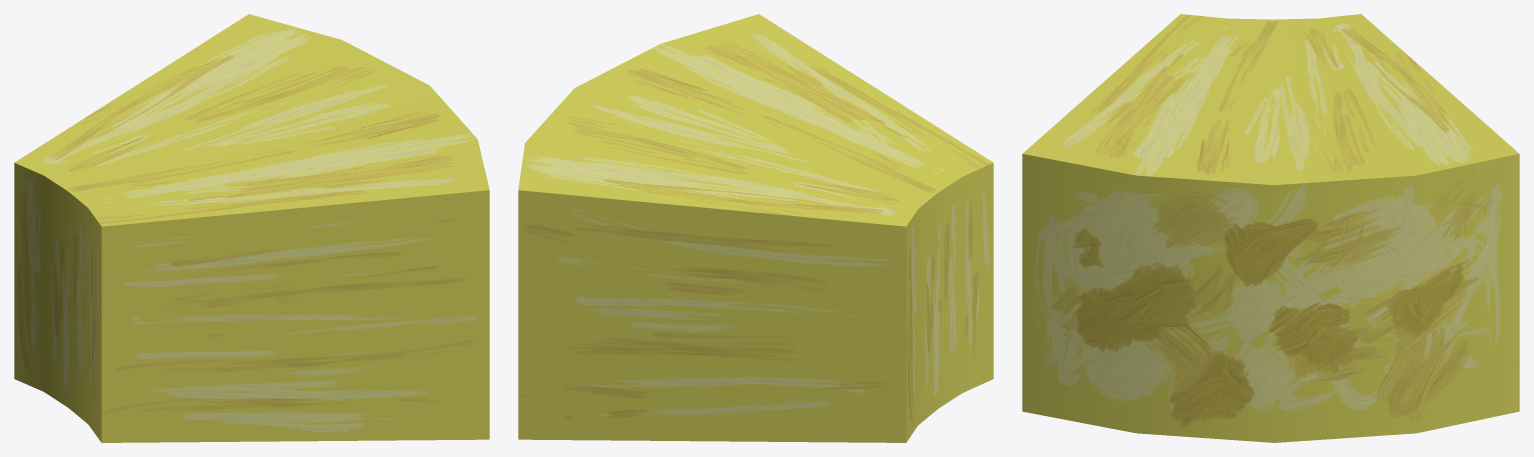
The model's file is Pineapple.gltf.
3 views of the same model, side by side, from view 1: azimuth 30°, elevation 25°; view 2: azimuth 150°, elevation 25°; view 3: azimuth 270°, elevation 25° (orthographic). The views are drawn at different scales.
Visible parts, largest first — view 1: pineapple; view 2: pineapple; view 3: pineapple.
Part boxes in pixels (x1=…): pineapple: x1=14, y1=14, x2=489, y2=442; pineapple: x1=518, y1=14, x2=993, y2=442; pineapple: x1=1022, y1=14, x2=1519, y2=442.
Size of the model in its own units: 0.0632 by 0.0403 by 0.0705.
1 material, 1 textured.
